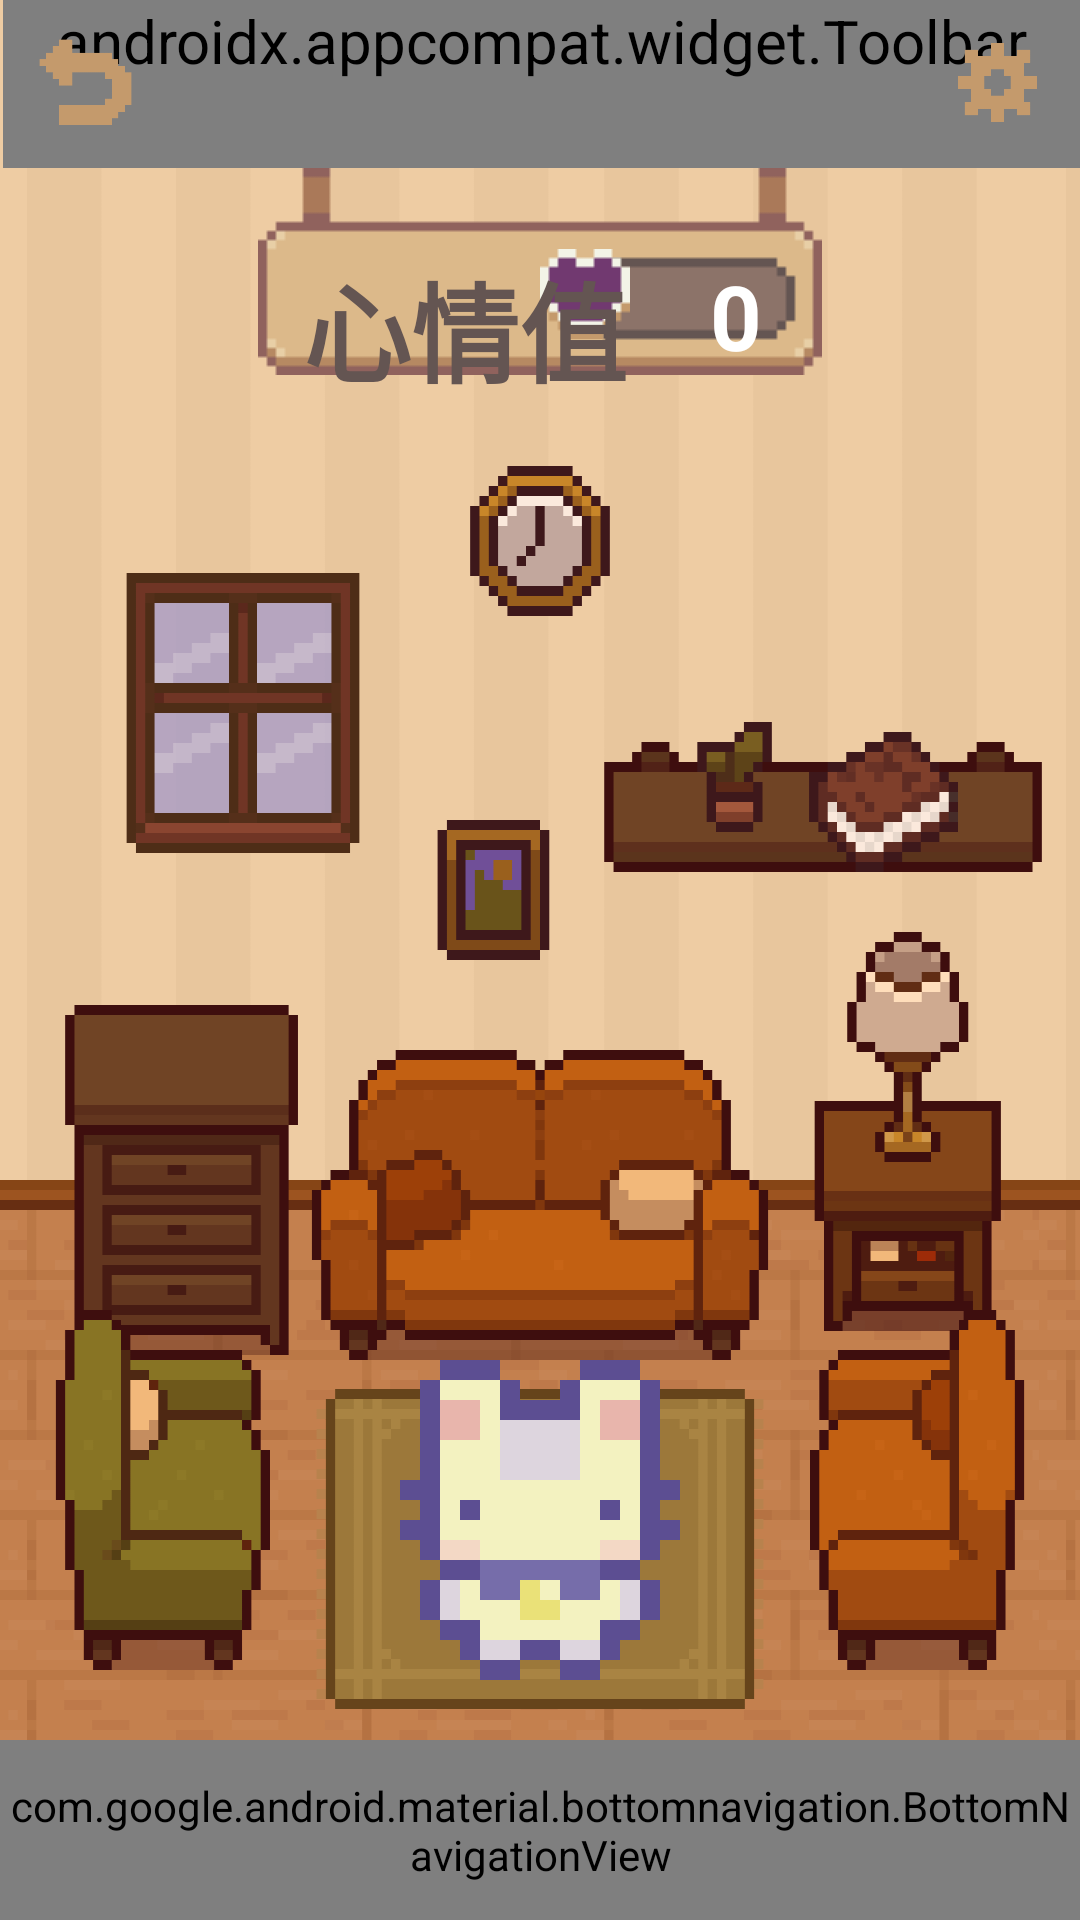

Icon bounding boxes for this 1080 x 1920 phone screenshot, format [x1=x1, y1=y1, x2=x2, y2=y2]:
back: [x1=39, y1=31, x2=132, y2=125]
setting: [x1=945, y1=30, x2=1037, y2=122]
